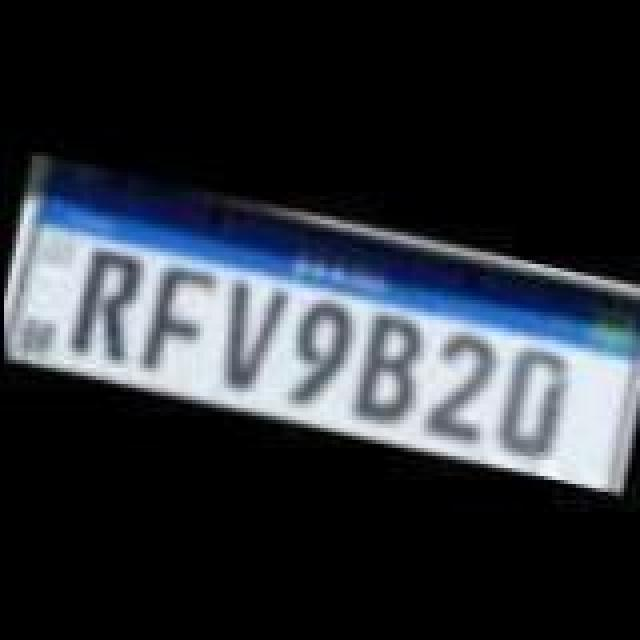2: (414, 322, 510, 446)
9: (270, 288, 362, 420)
B: (338, 302, 430, 426)
D: (482, 342, 578, 466)
F: (134, 258, 226, 390)
R: (54, 238, 154, 362)
V: (206, 274, 298, 406)
